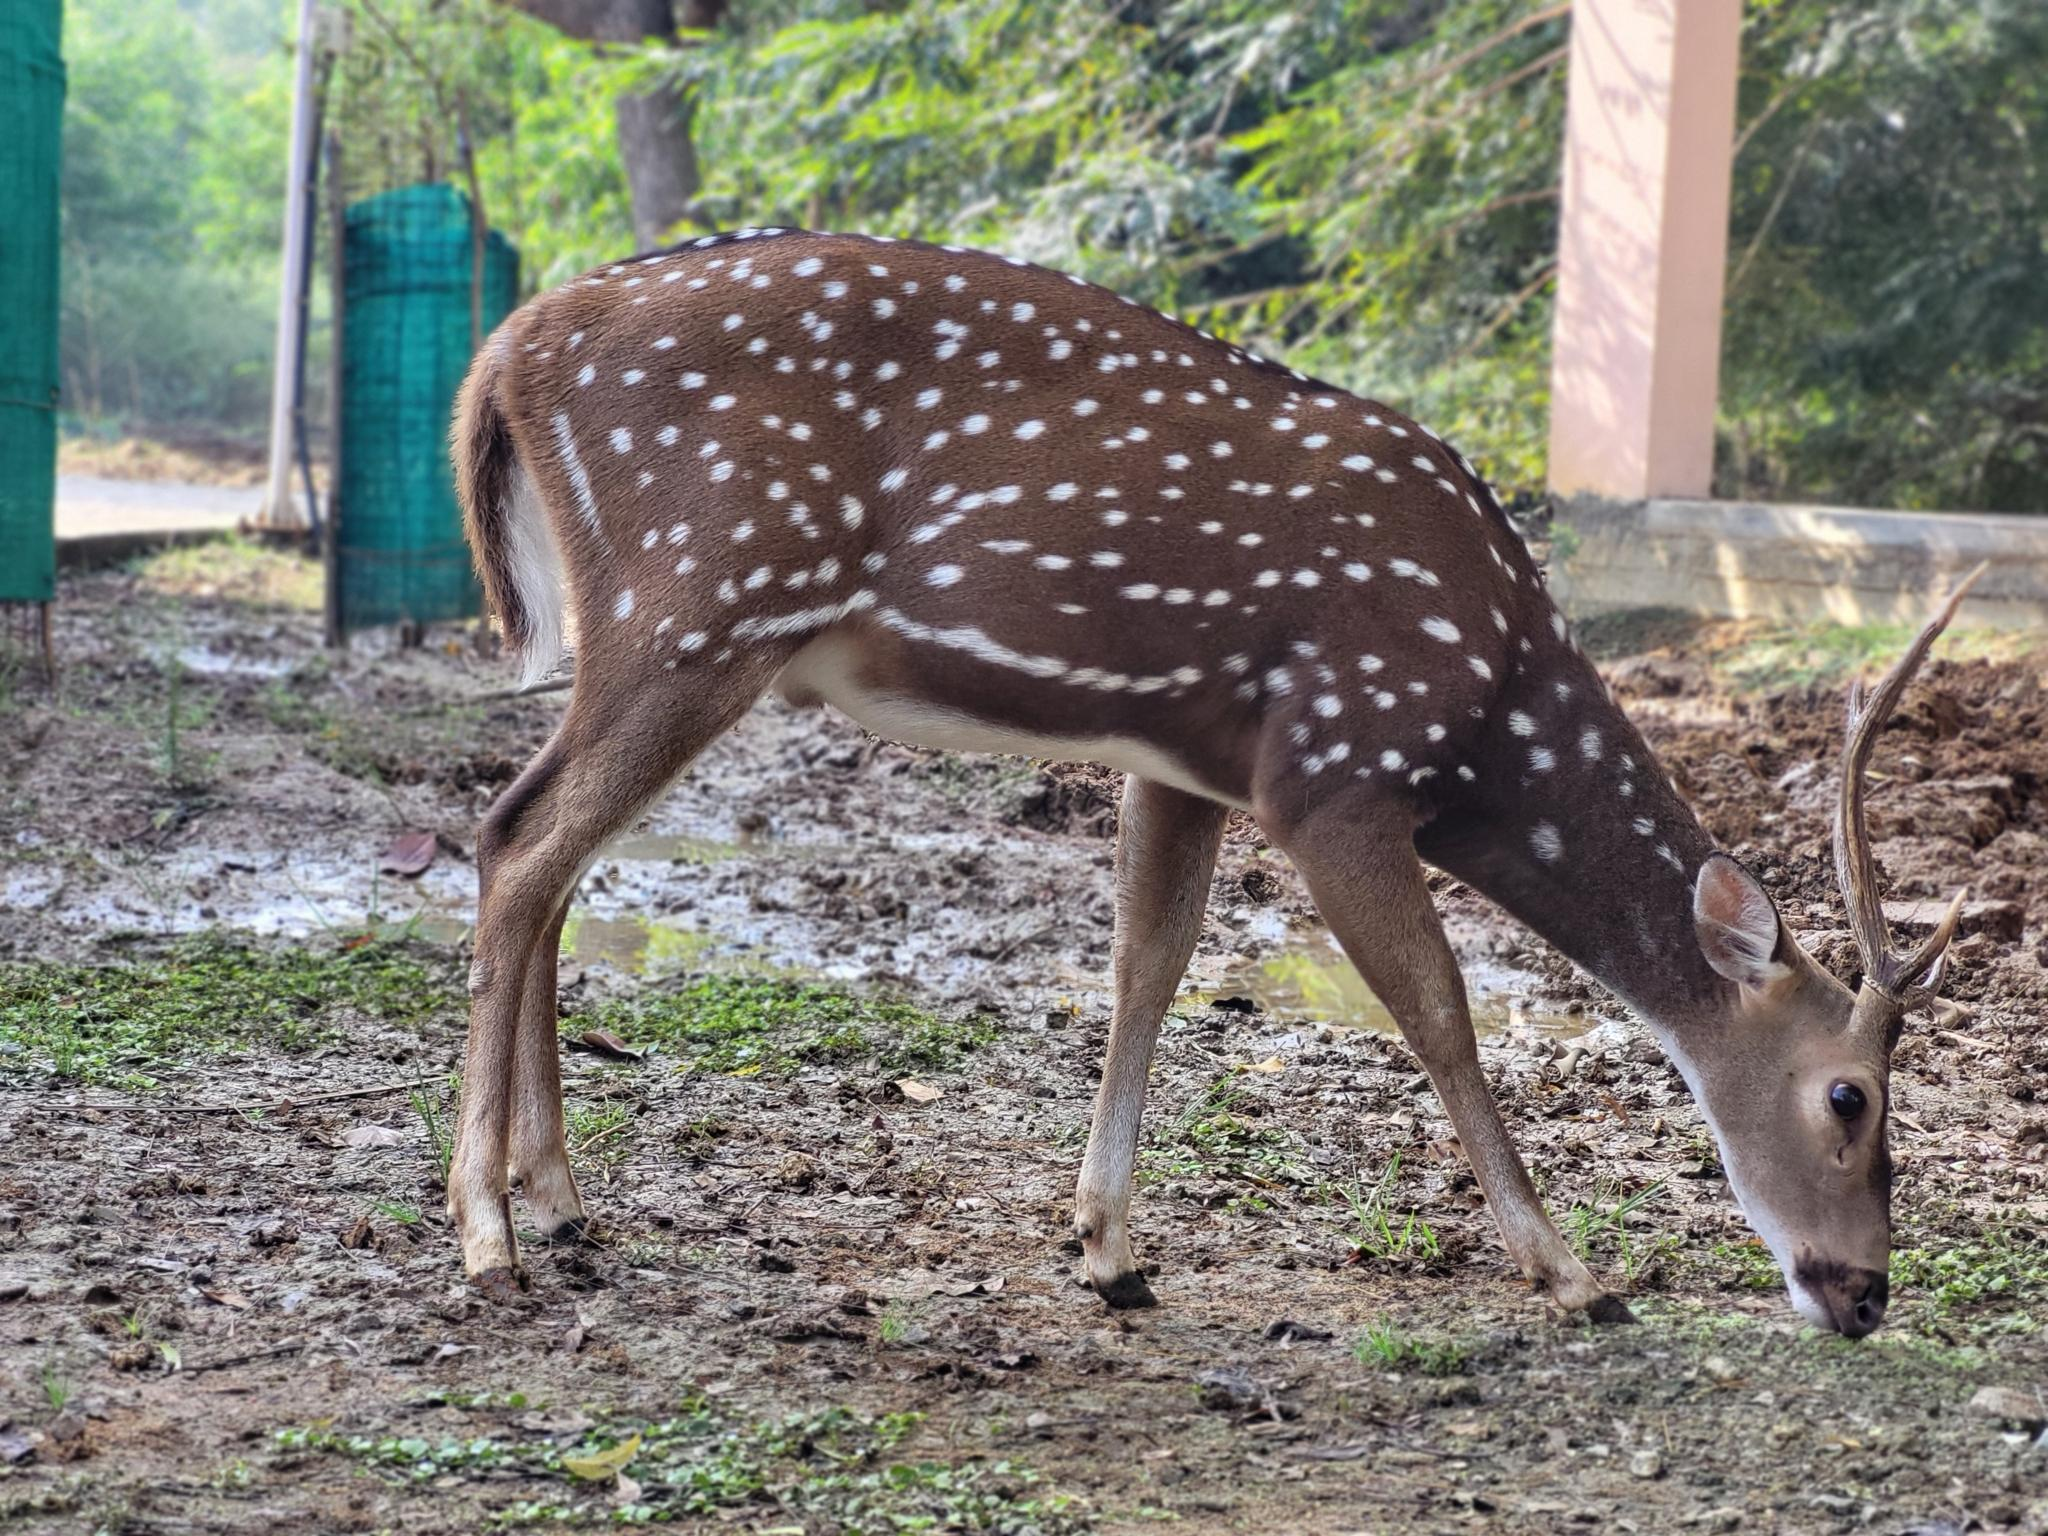Deer: (450, 229, 1980, 1338)
